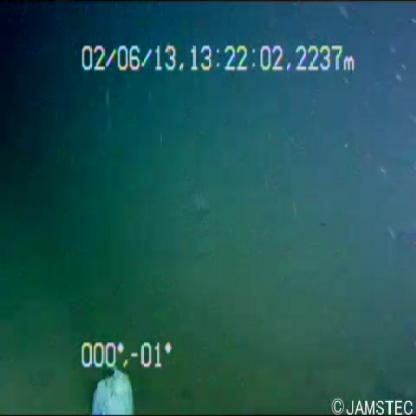Rác: (83, 361, 140, 416)
